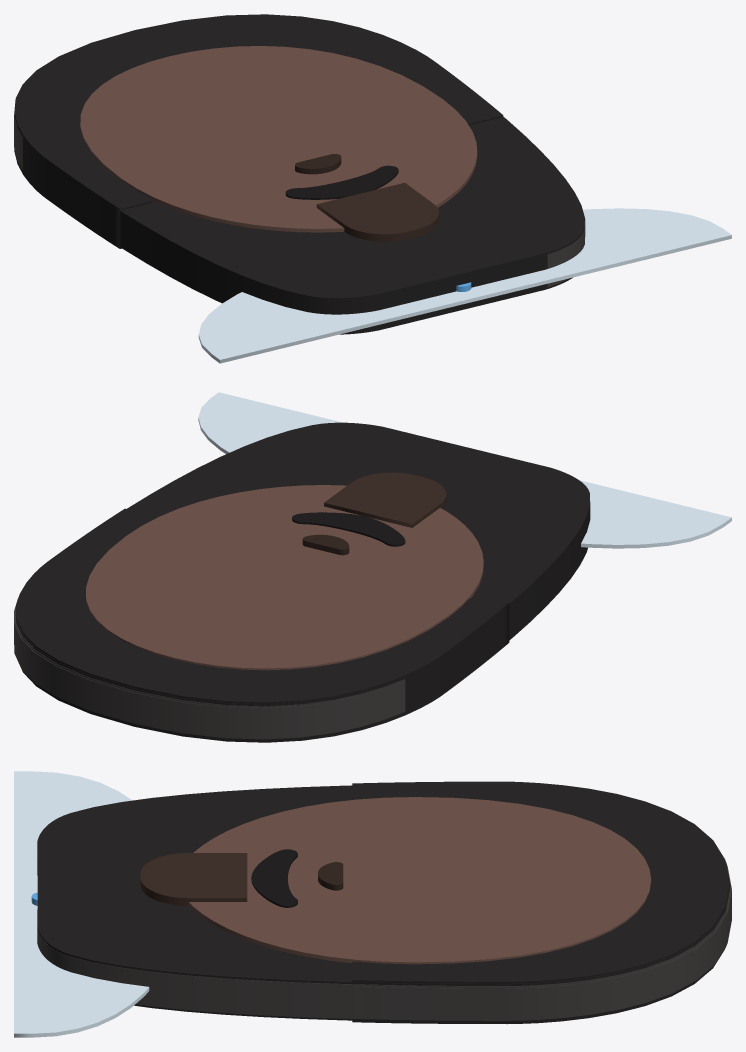
Rendered from emoji_u1f469_1f3ff_200d_1f4bc.glb.
3 renders of one model, top to bottom at view 1: azimuth 30°, elevation 25°; view 2: azimuth 150°, elevation 25°; view 3: azimuth 270°, elevation 25°, orthographic. The views are drawn at different scales.
Visible parts, largest first — view 1: emoji_u1f469_1f3ff_200d_1f4bc; view 2: emoji_u1f469_1f3ff_200d_1f4bc; view 3: emoji_u1f469_1f3ff_200d_1f4bc.
Boxes of the visible parts, box(x1,y1,x2,y2) form: emoji_u1f469_1f3ff_200d_1f4bc: box(14, 14, 731, 363); emoji_u1f469_1f3ff_200d_1f4bc: box(14, 392, 731, 742); emoji_u1f469_1f3ff_200d_1f4bc: box(14, 771, 731, 1037).
Bounding box in the file's own units: 0.0294 × 0.003 × 0.0339.
